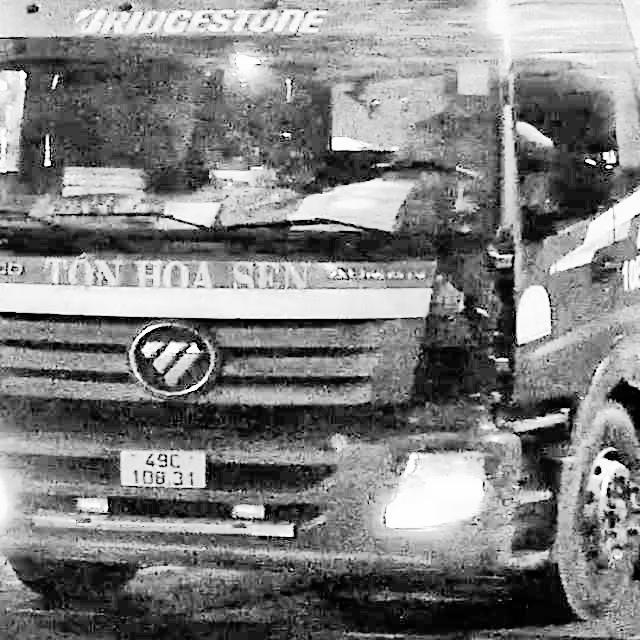Truck: (0, 0, 639, 627)
